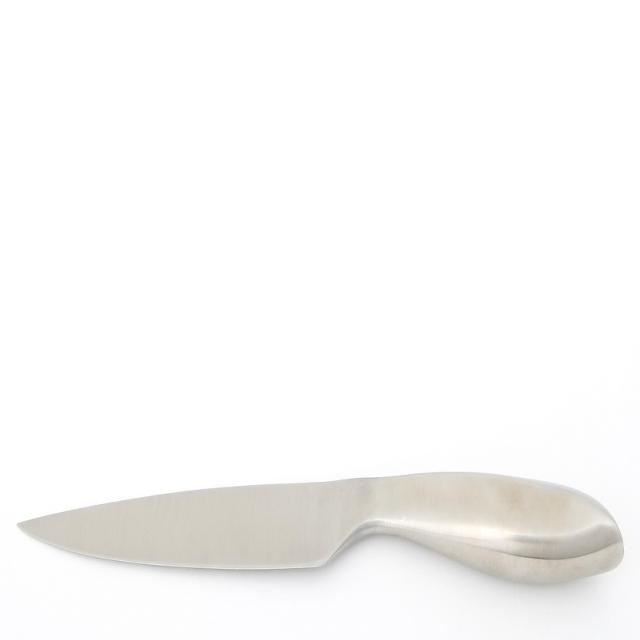Knife: (20, 472, 623, 582)
